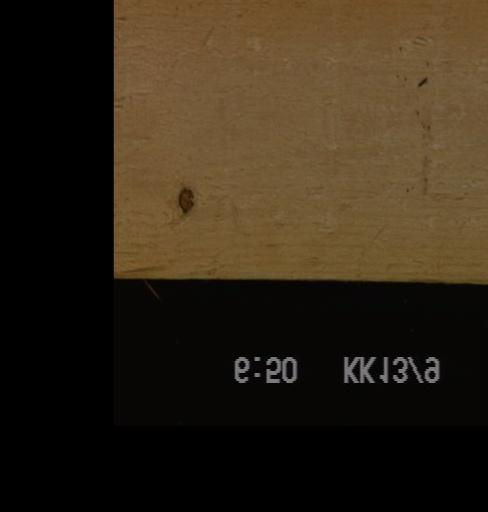dry_knot: (174, 185, 194, 215)
